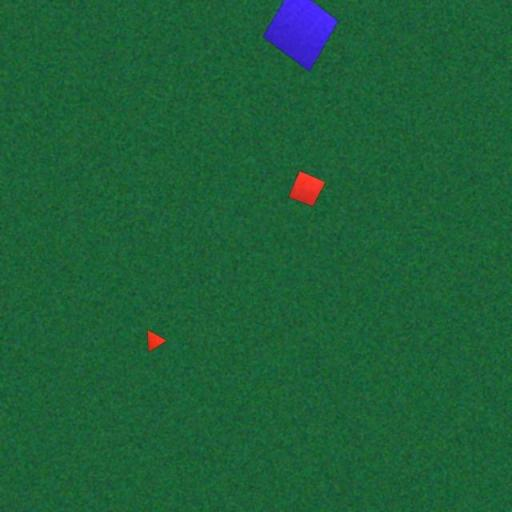BLUE_SQUARE: (262, 0, 340, 73)
RED_SQUARE: (287, 170, 326, 208)
